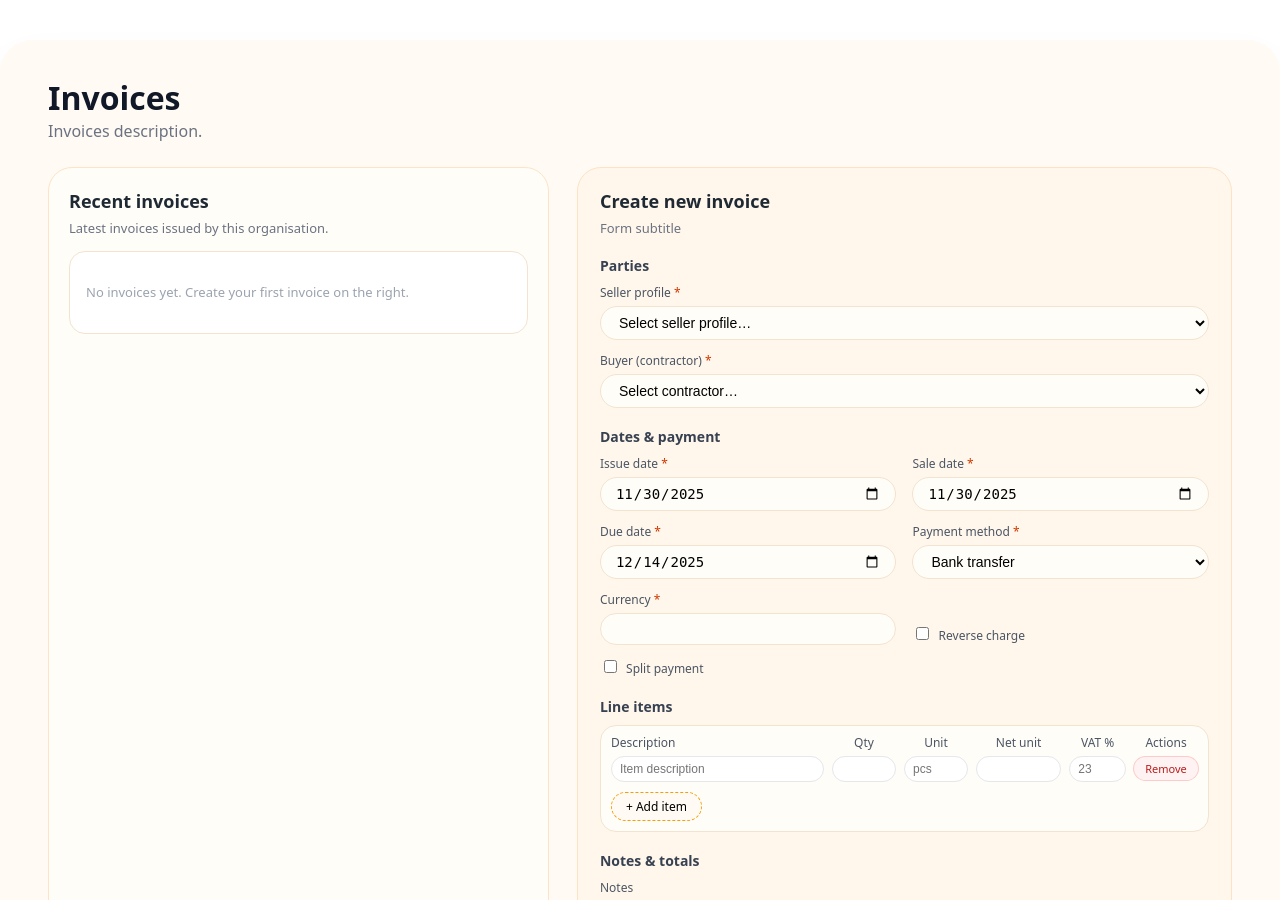
Scenario: initInvoices – validation and submit › shows validation errors when required fields are missing
The width and height of the screenshot is (1280, 900).
Step 1. Select "Select seller profile…" in the dropdown with id "invoice-seller" → coordinates (904, 323), box [600, 306, 1209, 340]
Step 2. Select "Select contractor…" in the dropdown with id "invoice-buyer" → coordinates (904, 391), box [600, 374, 1209, 408]
Step 3. Clear the date field with id "invoice-issue-date" → coordinates (748, 494), box [600, 477, 896, 511]
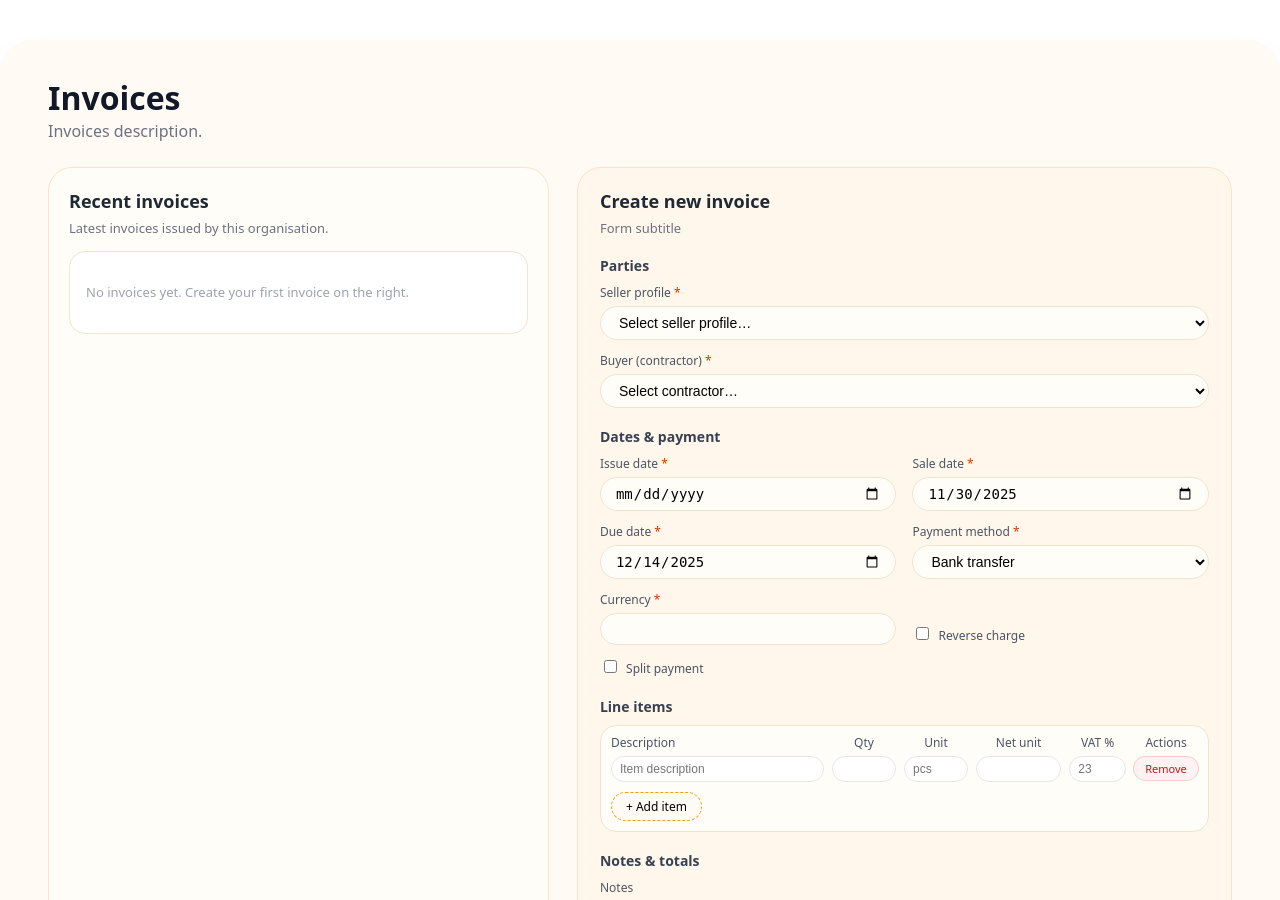
Step 4. Clear the date field with id "invoice-sale-date" → coordinates (1061, 494), box [912, 477, 1209, 511]
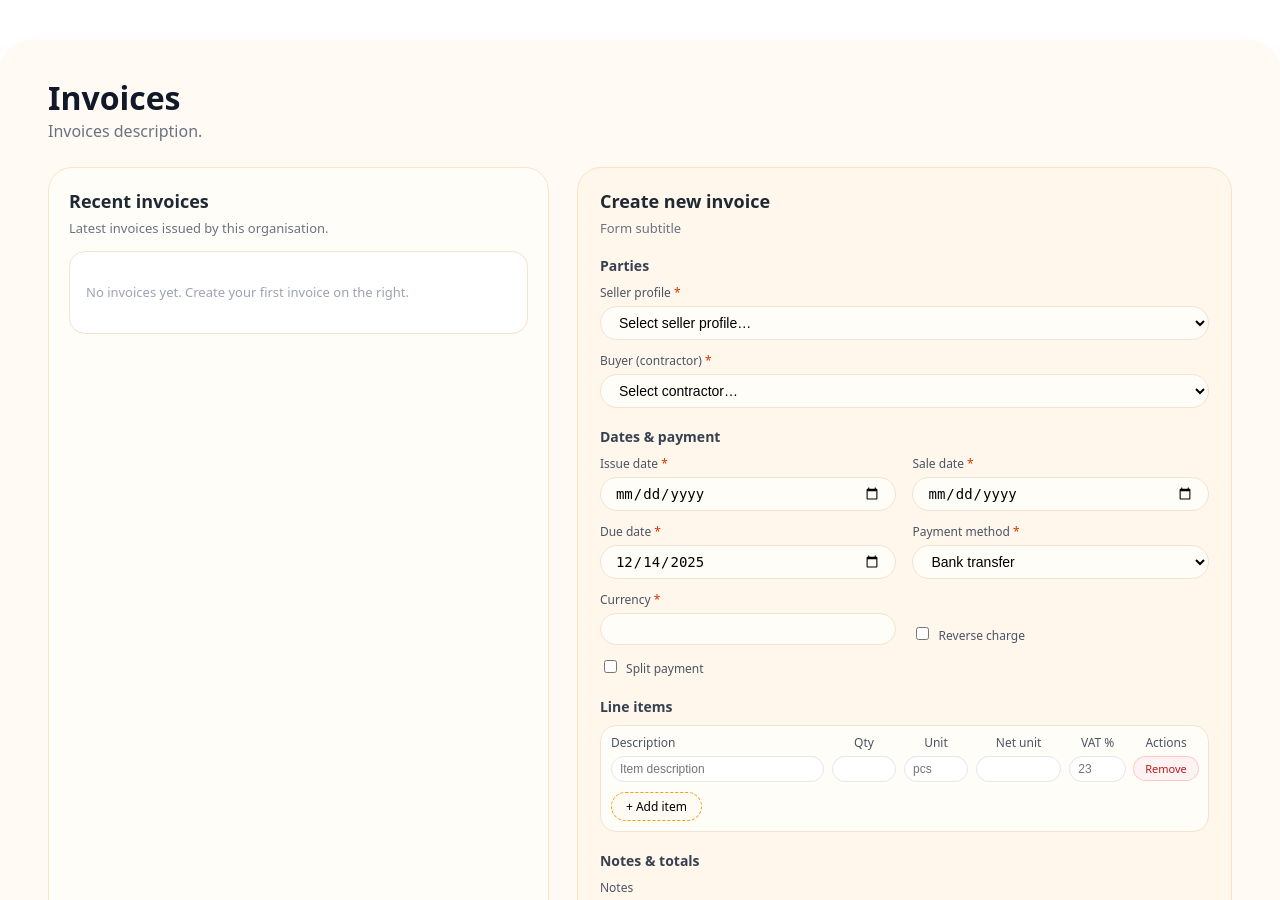
Step 5. Clear the date field with id "invoice-due-date" → coordinates (748, 562), box [600, 545, 896, 579]
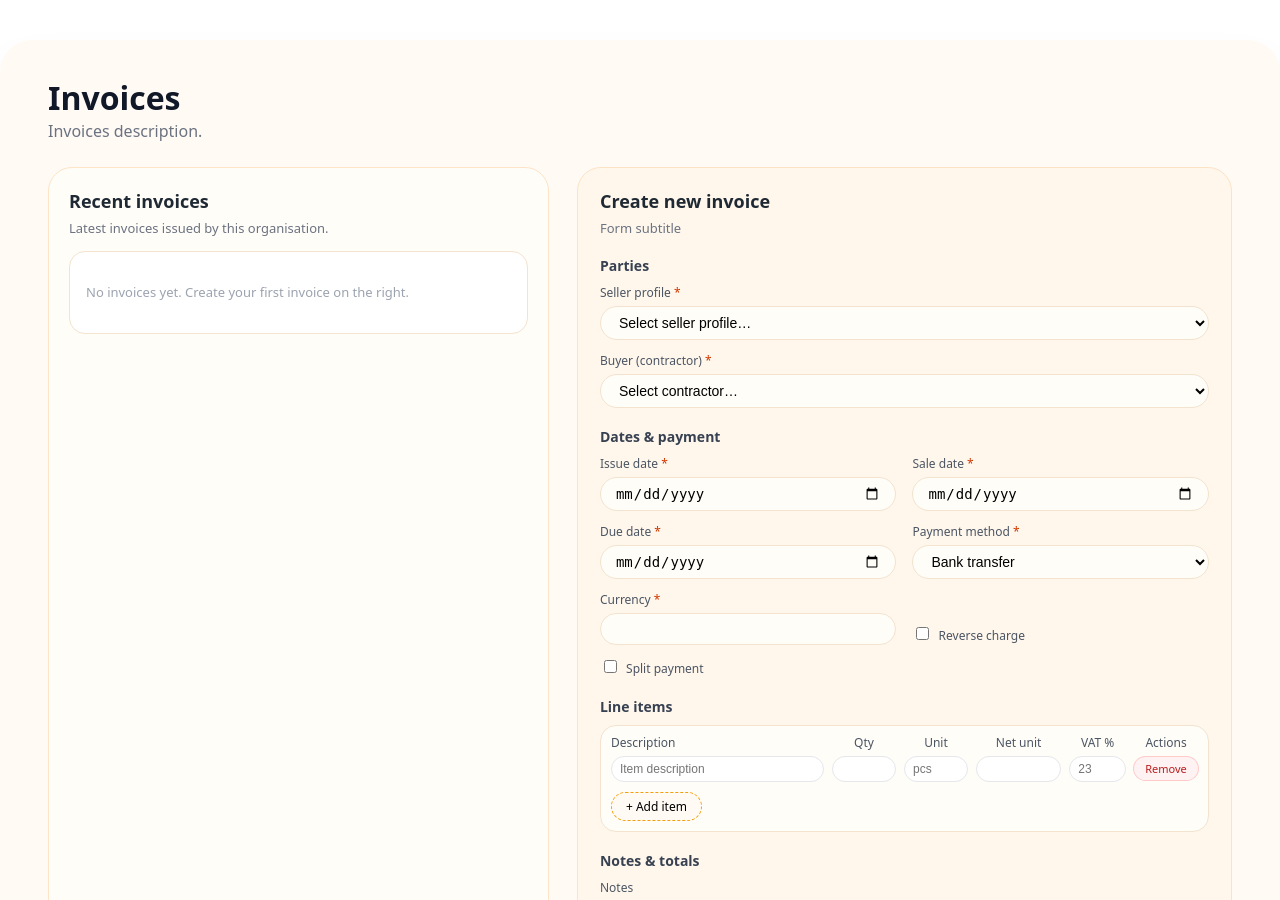
Step 6. Clear the field with id "invoice-currency" → coordinates (748, 629), box [600, 613, 896, 645]
(page scrolled)
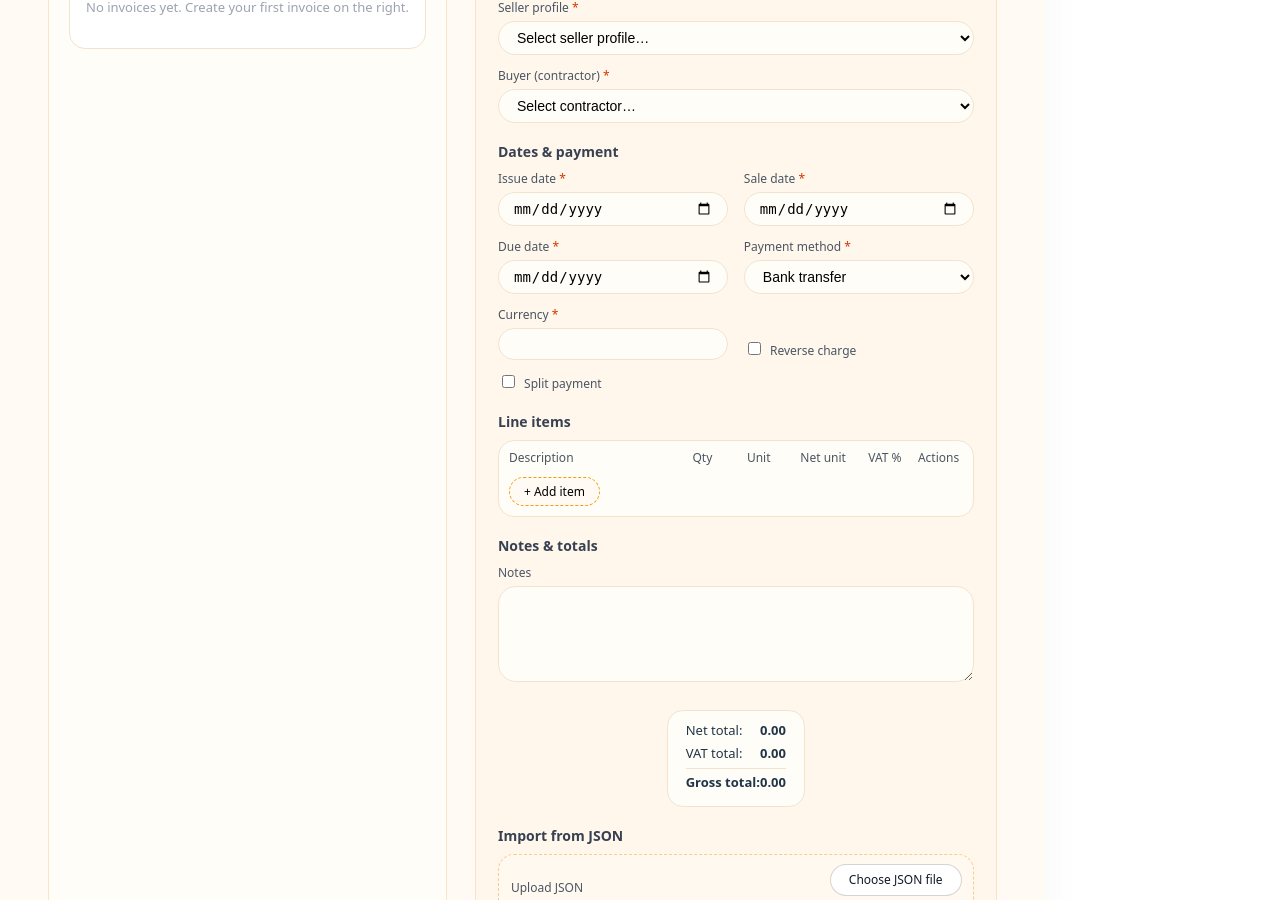
Step 7. Submit the form with id "invoice-form"
(page scrolled)
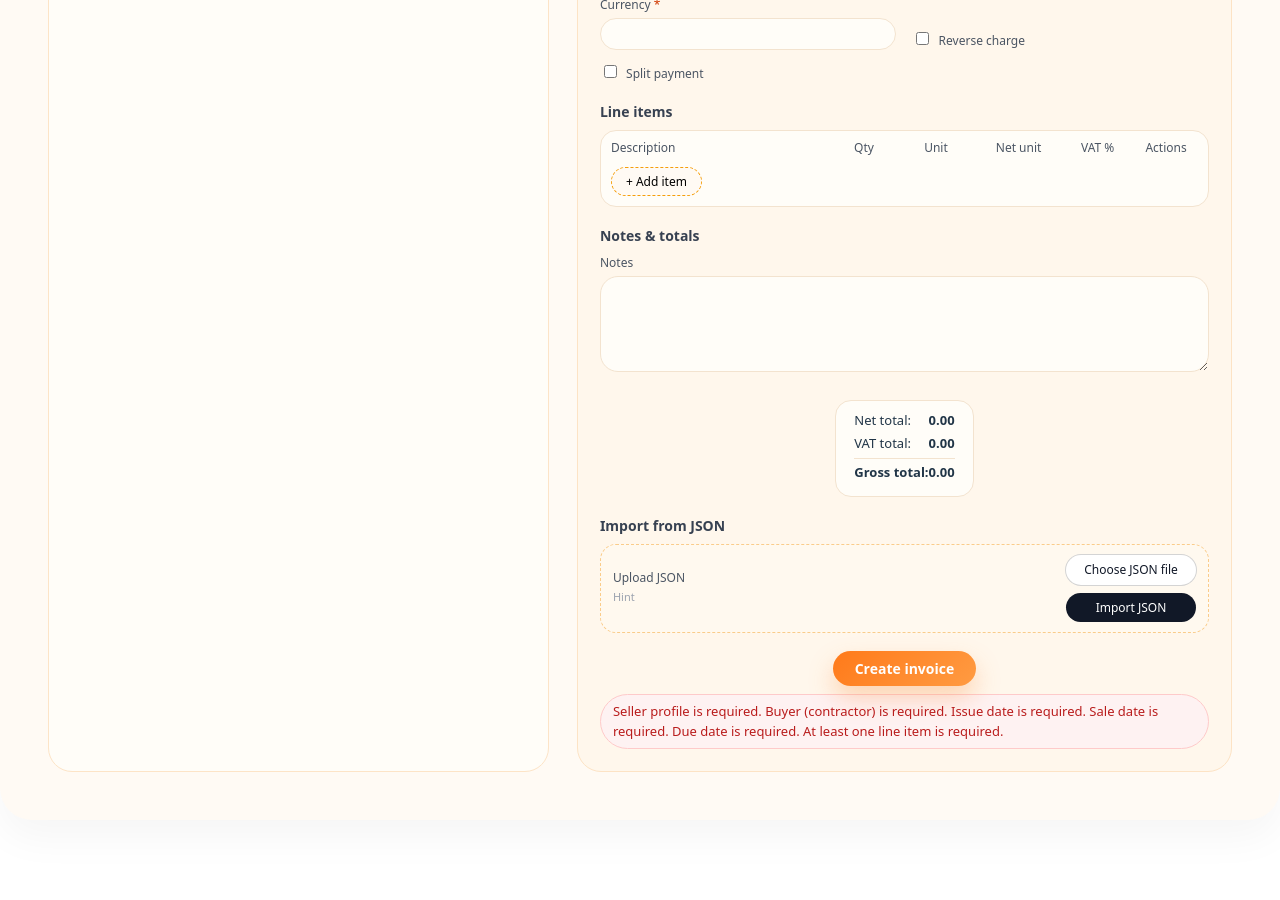
Expected: the text with id "invoice-error" shows "Seller profile is required.", [613, 702, 1158, 740]
Expected: the text with id "invoice-error" shows "Buyer (contractor) is required.", [613, 702, 1158, 740]
Expected: the text with id "invoice-error" shows "Issue date is required.", [613, 702, 1158, 740]
